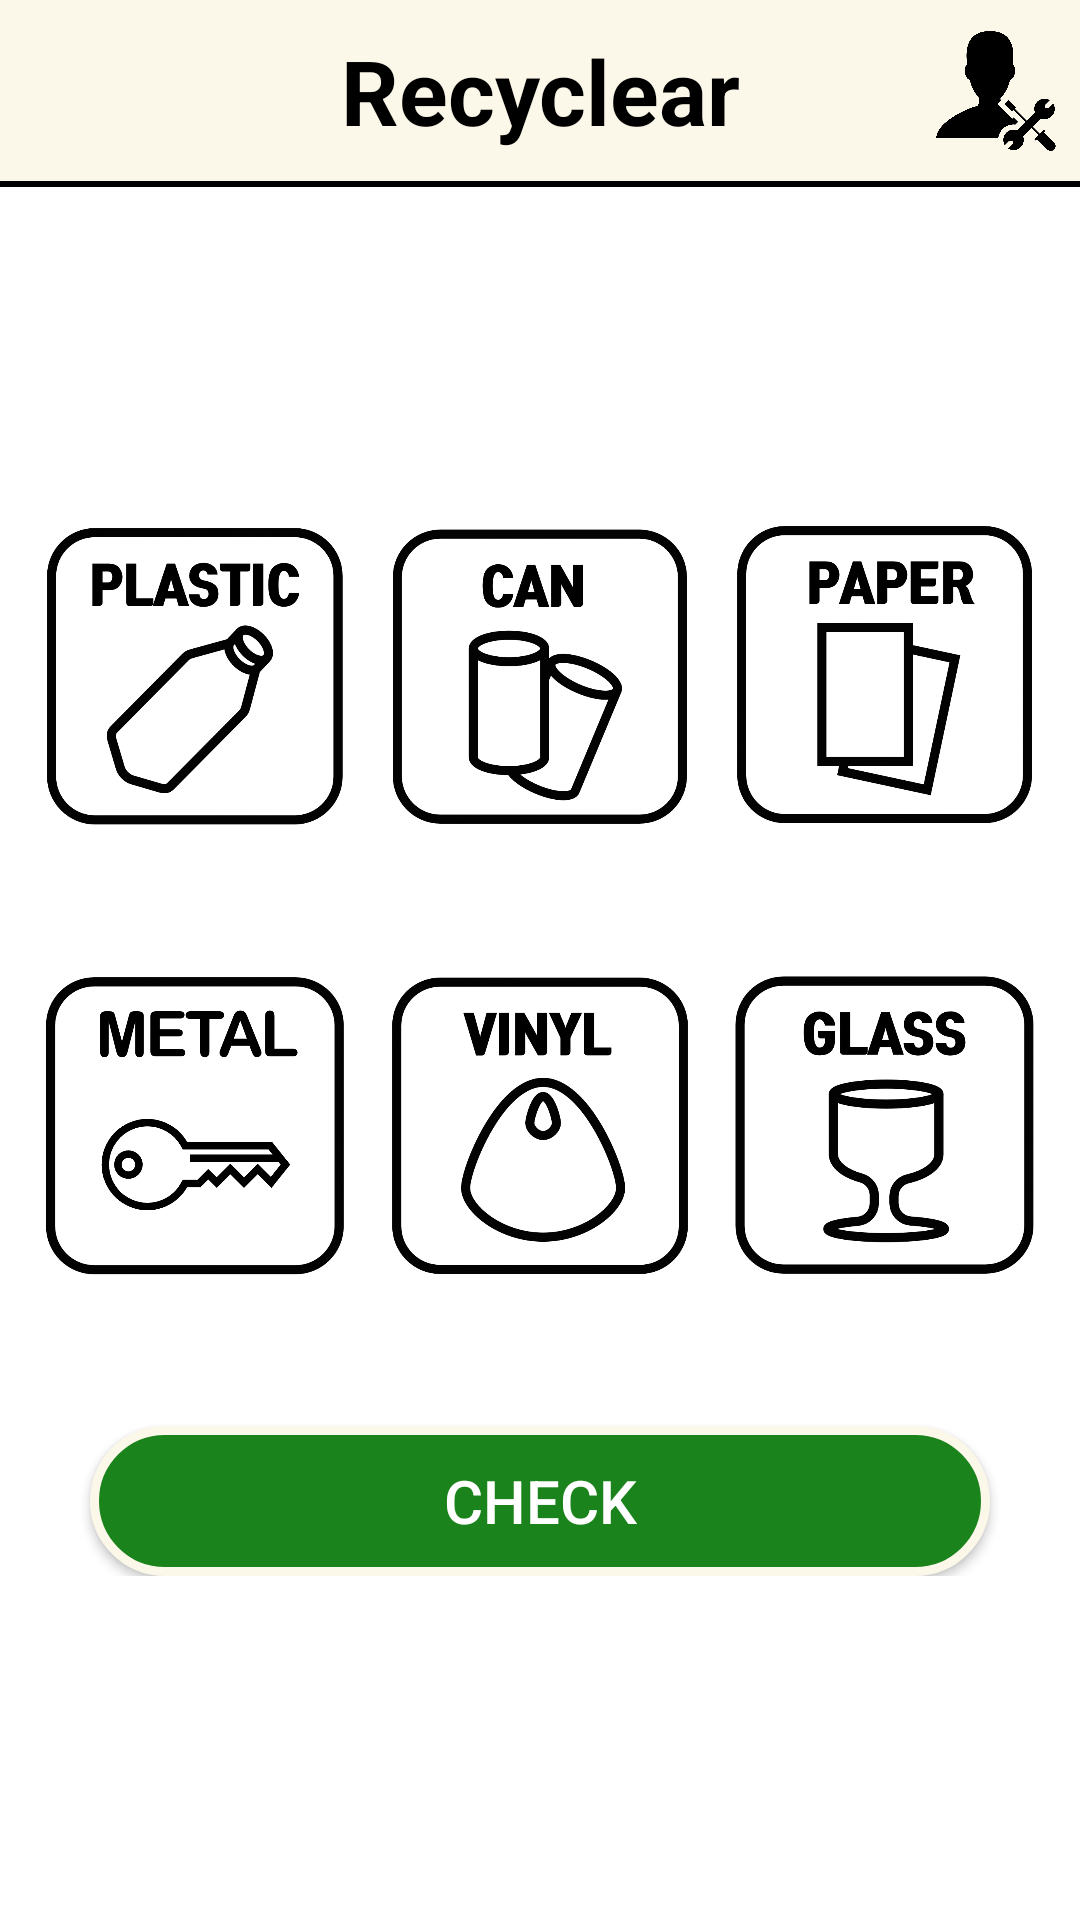

Point at icon controls on the screen. Image size 1080×1920, points as (x=x, y=y).
admin: (x=996, y=91)
